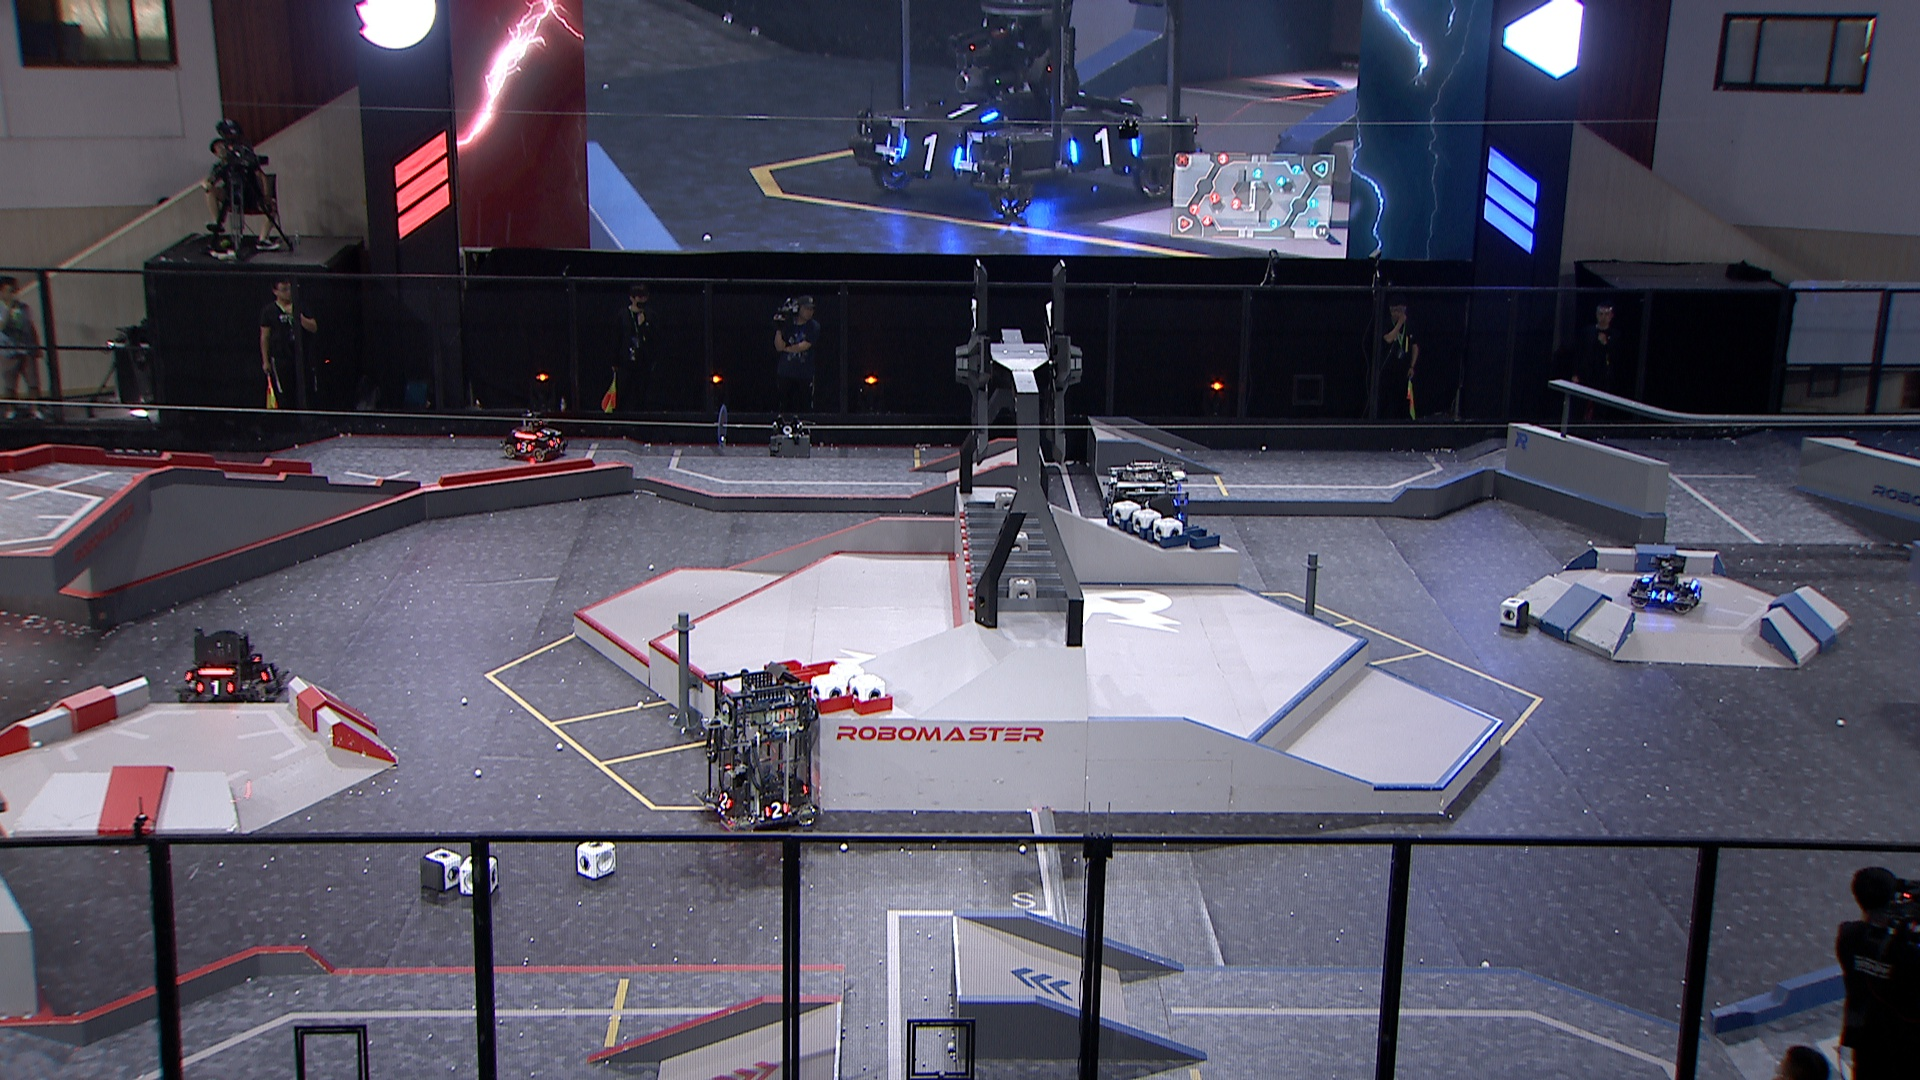armor: (193, 678, 231, 695), (716, 793, 736, 816), (764, 803, 790, 818), (258, 665, 277, 684), (1648, 589, 1671, 603), (513, 440, 533, 452), (1640, 571, 1655, 583), (538, 427, 553, 438), (550, 436, 562, 447)
car: (698, 665, 823, 833), (175, 622, 287, 711), (1100, 455, 1195, 553), (1626, 555, 1705, 621), (500, 405, 568, 462)
ignore: (845, 5, 1195, 223)
